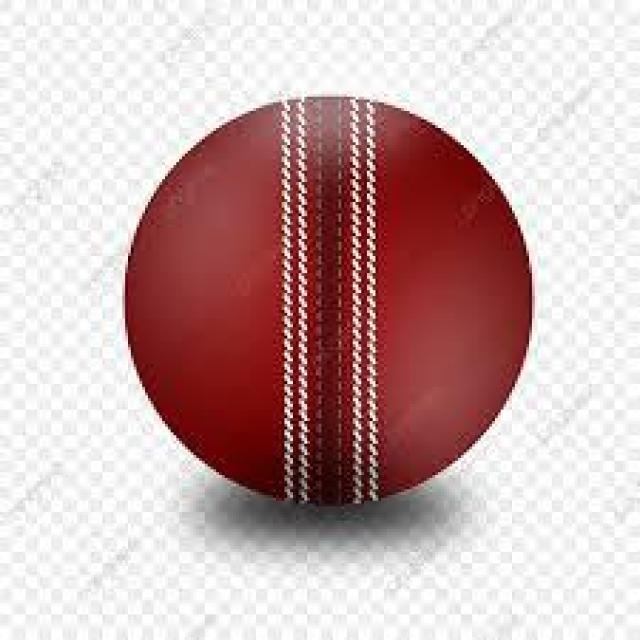ball: (121, 96, 541, 507)
